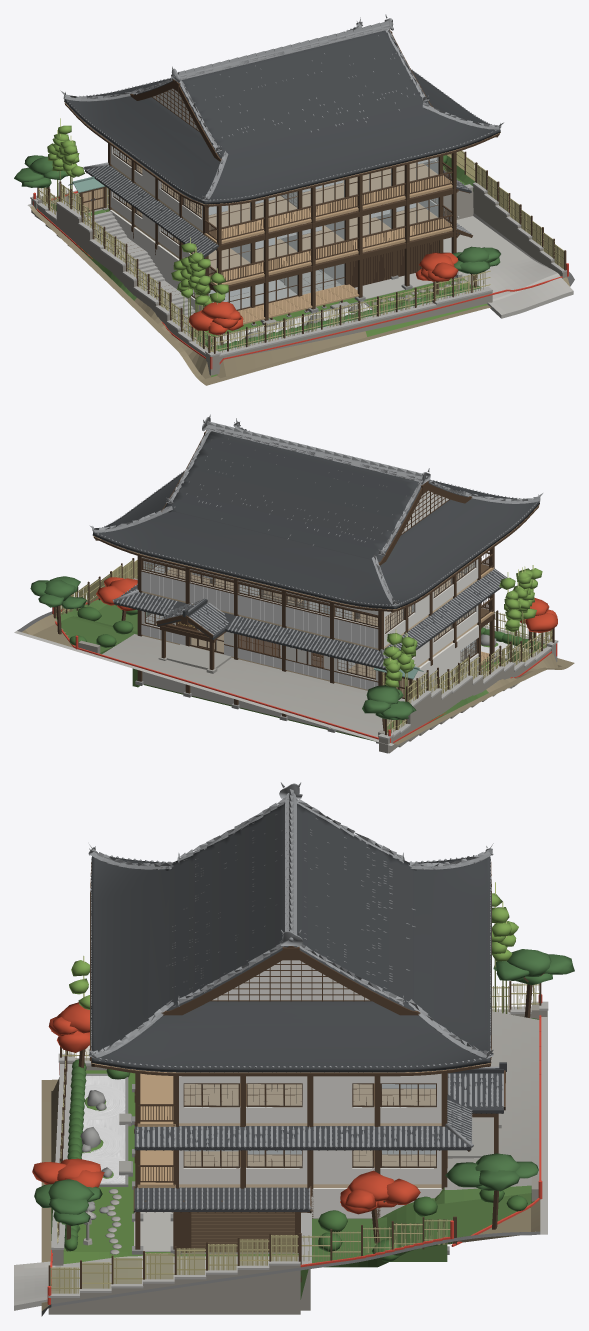
The model's file is primeofis-tas.glb.
3 renders of one model, top to bottom at view 1: azimuth 30°, elevation 25°; view 2: azimuth 150°, elevation 25°; view 3: azimuth 270°, elevation 25°, orthographic. The views are drawn at different scales.
Parts seen in each view (by area): view 1: Cati_Etek, Cati_Ust, Arazi, Camlar, Balkon, Cit_Bambu, Kolonlar, Parke, Korkuluk, Sinir_Istinat, Siva, K_Mahya (+32 smaller); view 2: Cati_Etek, Cati_Ust, Arazi, KC_Yakisugi, Siva, Mokoshi2, K_Mahya, K_Marugawara.001, Camlar, Cit_Bambu, Kolonlar, Bambu_Yaprak (+28 smaller); view 3: Cati_Etek, Cati_Ust, Arazi, Siva, Istinat, Mokoshi2, K_Mahya, Camlar, Matsu_Yaprak, Cit_Yan_Bambu, Momiji_Yaprak, K_Marugawara.001 (+37 smaller).
Part boxes in pixels (box(x1,y1,x2,y2)): Cati_Etek: box(64, 27, 500, 204); Cati_Ust: box(133, 30, 431, 158); Arazi: box(27, 155, 574, 385); Camlar: box(113, 148, 438, 309); Balkon: box(204, 175, 452, 285); Cit_Bambu: box(38, 150, 485, 352); Kolonlar: box(108, 143, 456, 320); Parke: box(162, 162, 437, 272); Korkuluk: box(204, 162, 452, 282); Sinir_Istinat: box(31, 199, 492, 375); Siva: box(110, 145, 437, 311); K_Mahya: box(60, 17, 503, 198); Cati_Etek: box(92, 428, 539, 609); Cati_Ust: box(164, 431, 468, 562); Arazi: box(14, 599, 574, 745); KC_Yakisugi: box(141, 571, 378, 689); Siva: box(141, 557, 478, 682); Mokoshi2: box(114, 568, 507, 670); K_Mahya: box(89, 418, 542, 611); K_Marugawara.001: box(117, 569, 506, 667); Camlar: box(143, 561, 476, 678); Cit_Bambu: box(56, 573, 552, 732); Kolonlar: box(137, 547, 494, 728); Bambu_Yaprak: box(383, 568, 542, 687); Cati_Etek: box(90, 856, 491, 1072); Cati_Ust: box(165, 803, 416, 1010); Arazi: box(41, 1010, 547, 1316); Siva: box(179, 1073, 442, 1218); Istinat: box(48, 1265, 300, 1314); Mokoshi2: box(134, 1090, 471, 1150); K_Mahya: box(89, 789, 499, 1068); Camlar: box(184, 1084, 436, 1167); Matsu_Yaprak: box(34, 949, 574, 1225); Cit_Yan_Bambu: box(50, 1235, 297, 1293); Momiji_Yaprak: box(32, 1002, 420, 1214); K_Marugawara.001: box(136, 1073, 503, 1146).
Size of the model in its own units: 32.77 by 19.41 by 29.25.
